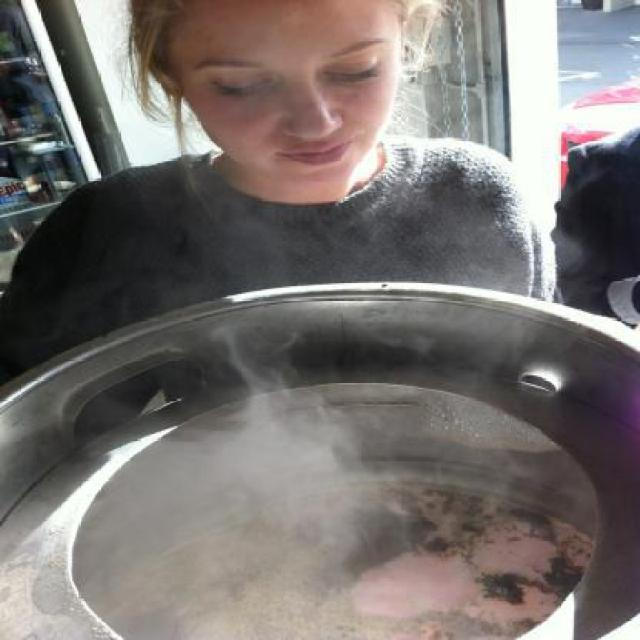Person: (0, 25, 600, 453)
